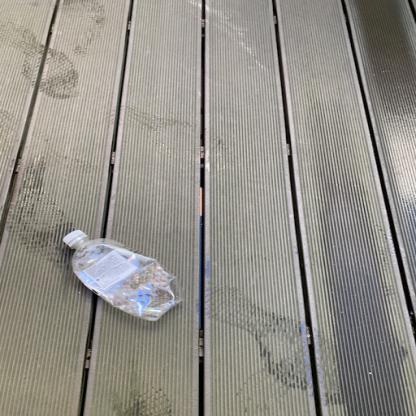plastic-bottles: (66, 229, 190, 328)
